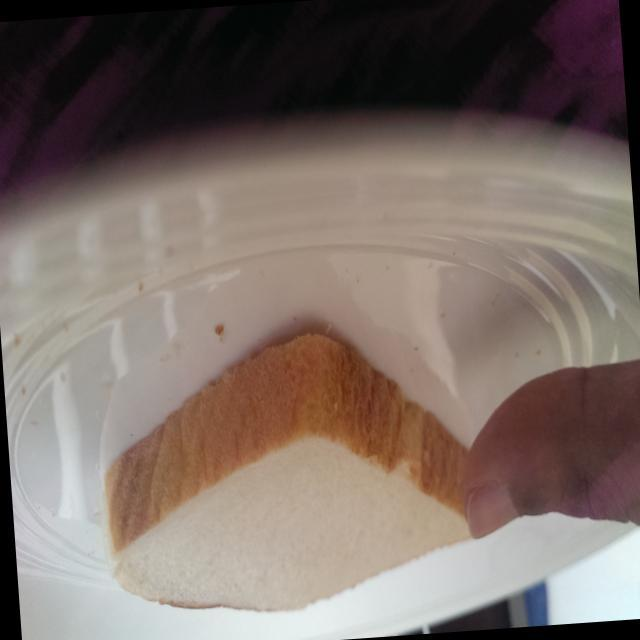Bread: (87, 306, 471, 626)
Finger: (443, 351, 640, 544)
